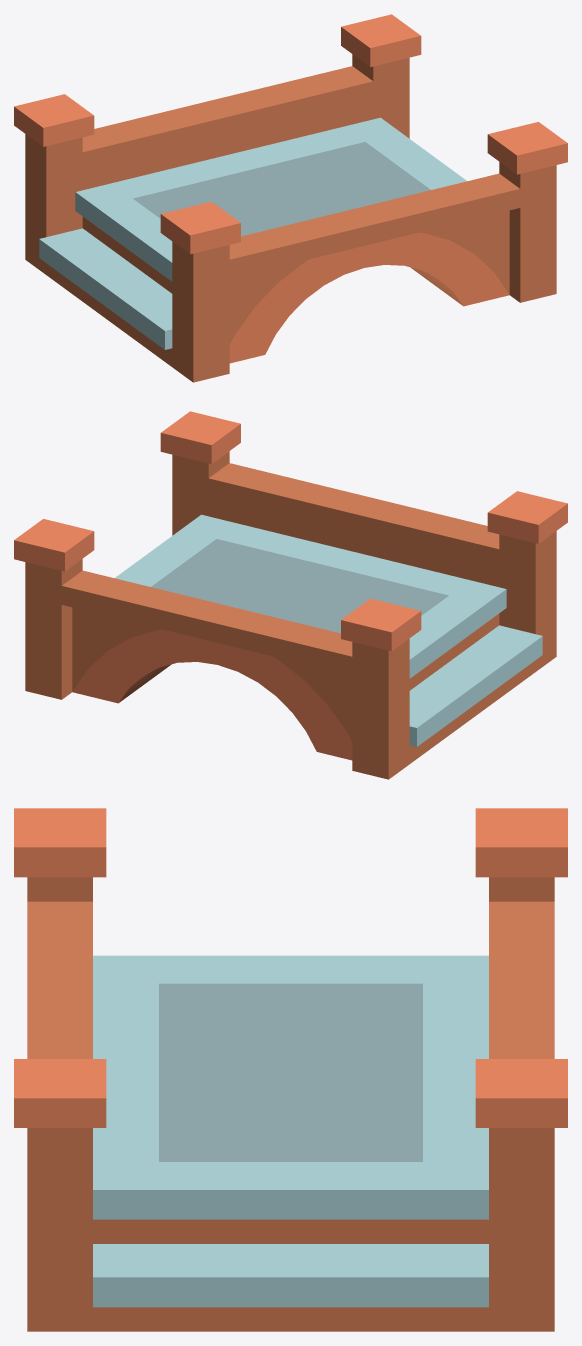
The model's file is bridge_woodRoundNarrow.obj.
3 views of the same model, one above another, from view 1: azimuth 30°, elevation 25°; view 2: azimuth 150°, elevation 25°; view 3: azimuth 270°, elevation 25° (orthographic). The views are drawn at different scales.
Visible parts, largest first — view 1: bridge_woodRoundNarrow; view 2: bridge_woodRoundNarrow; view 3: bridge_woodRoundNarrow.
Boxes of the visible parts, bbox=[...] form: bridge_woodRoundNarrow: bbox=[14, 14, 567, 382]; bridge_woodRoundNarrow: bbox=[14, 411, 567, 779]; bridge_woodRoundNarrow: bbox=[14, 808, 567, 1331].
Size of the model in its own units: 1.04 by 0.4 by 0.84.
